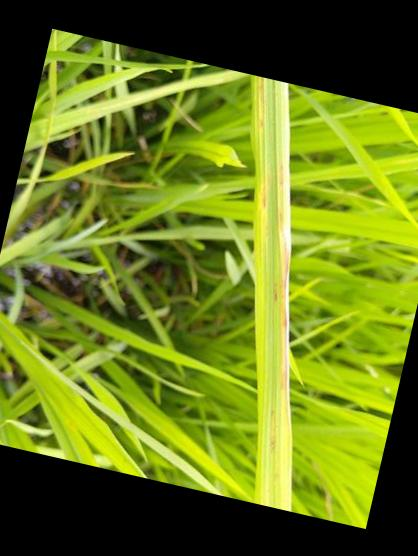Leaf Streak: (248, 73, 291, 511)
